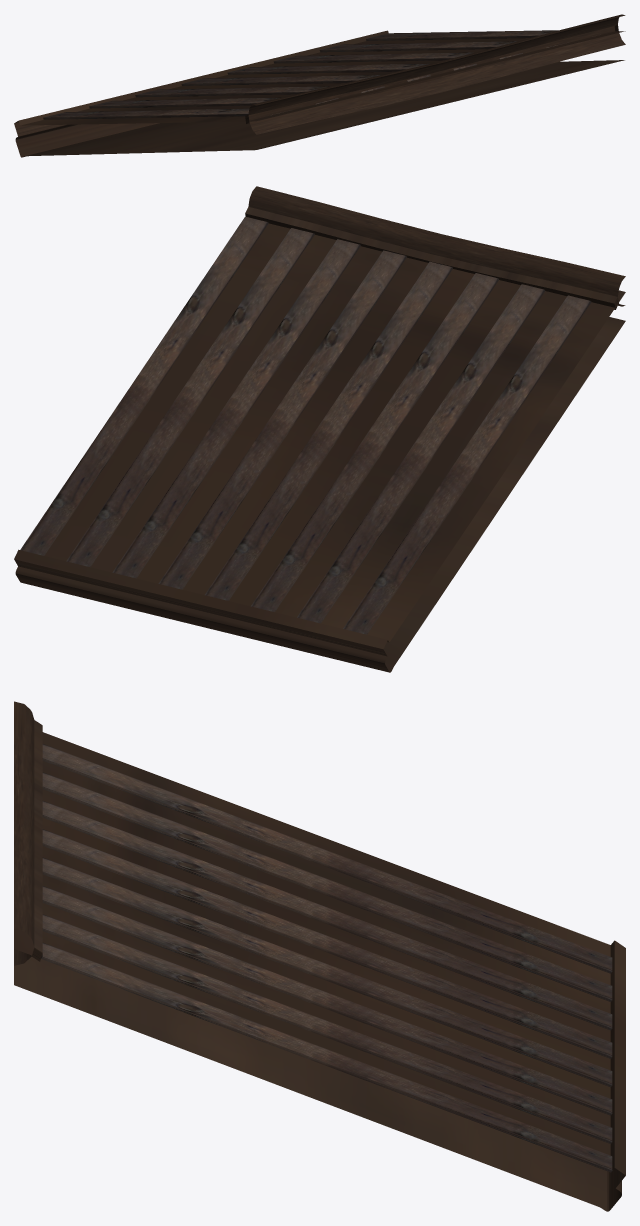
Rendered from OutdoorArchitecture_Roof02_Planks_Mid02_BShortt.fbx.
3 views of the same model, one above another, from view 1: azimuth 30°, elevation 25°; view 2: azimuth 150°, elevation 25°; view 3: azimuth 270°, elevation 25° (orthographic). The views are drawn at different scales.
Parts seen in each view (by area): view 1: OutdoorArchitecture_Roof02_Planks_Mid02_BShortt; view 2: OutdoorArchitecture_Roof02_Planks_Mid02_BShortt; view 3: OutdoorArchitecture_Roof02_Planks_Mid02_BShortt.
Part boxes in pixels (bbox=[...]): OutdoorArchitecture_Roof02_Planks_Mid02_BShortt: bbox=[14, 14, 625, 157]; OutdoorArchitecture_Roof02_Planks_Mid02_BShortt: bbox=[14, 186, 625, 672]; OutdoorArchitecture_Roof02_Planks_Mid02_BShortt: bbox=[14, 701, 625, 1211].
Bounding box in the file's own units: 200 × 116 × 227.
